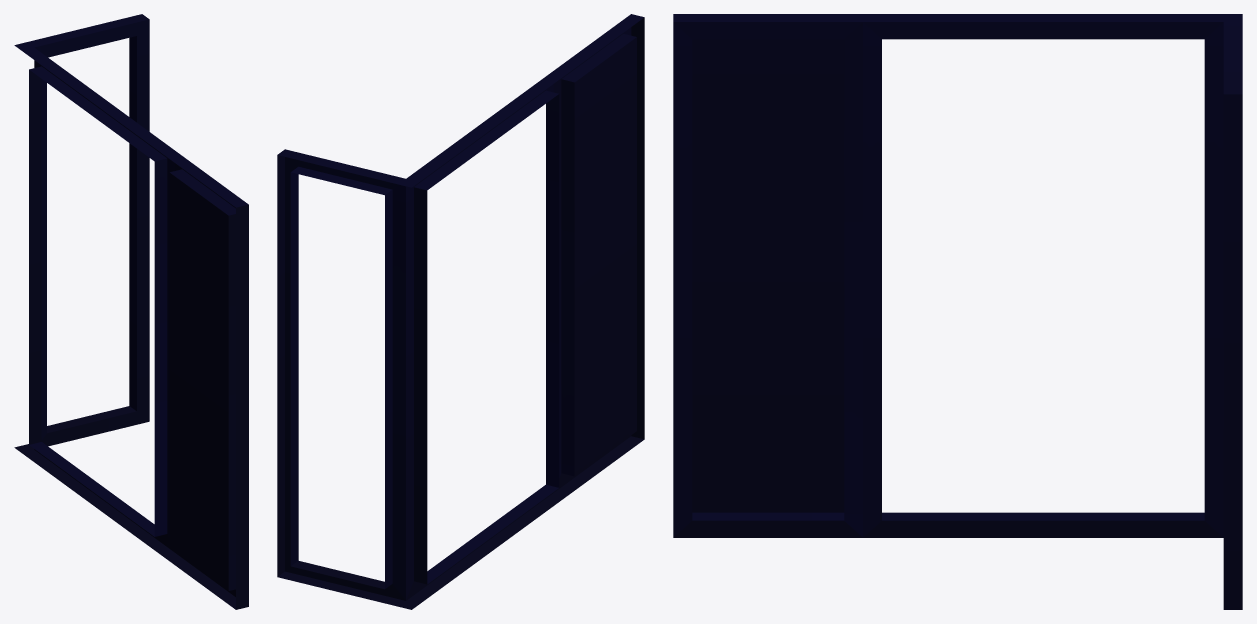
The model's file is m_thomas_windows2.fbx.
The picture shows the model from 3 angles, left to right: view 1: azimuth 30°, elevation 25°; view 2: azimuth 150°, elevation 25°; view 3: azimuth 270°, elevation 25°; orthographic projection. The views are drawn at different scales.
Parts seen in each view (by area): view 1: m_thomas_windows2; view 2: m_thomas_windows2; view 3: m_thomas_windows2.
Boxes of the visible parts, bbox=[...] form: m_thomas_windows2: bbox=[14, 14, 248, 609]; m_thomas_windows2: bbox=[277, 14, 644, 609]; m_thomas_windows2: bbox=[673, 14, 1242, 609].
Bounding box in the file's own units: 100 × 300 × 300.
